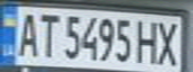4: (78, 12, 100, 61)
5: (60, 11, 84, 61), (115, 16, 136, 63)
9: (97, 14, 118, 62)
A: (12, 9, 42, 58)
H: (133, 17, 160, 65)
T: (33, 9, 60, 58)
X: (154, 18, 184, 66)
